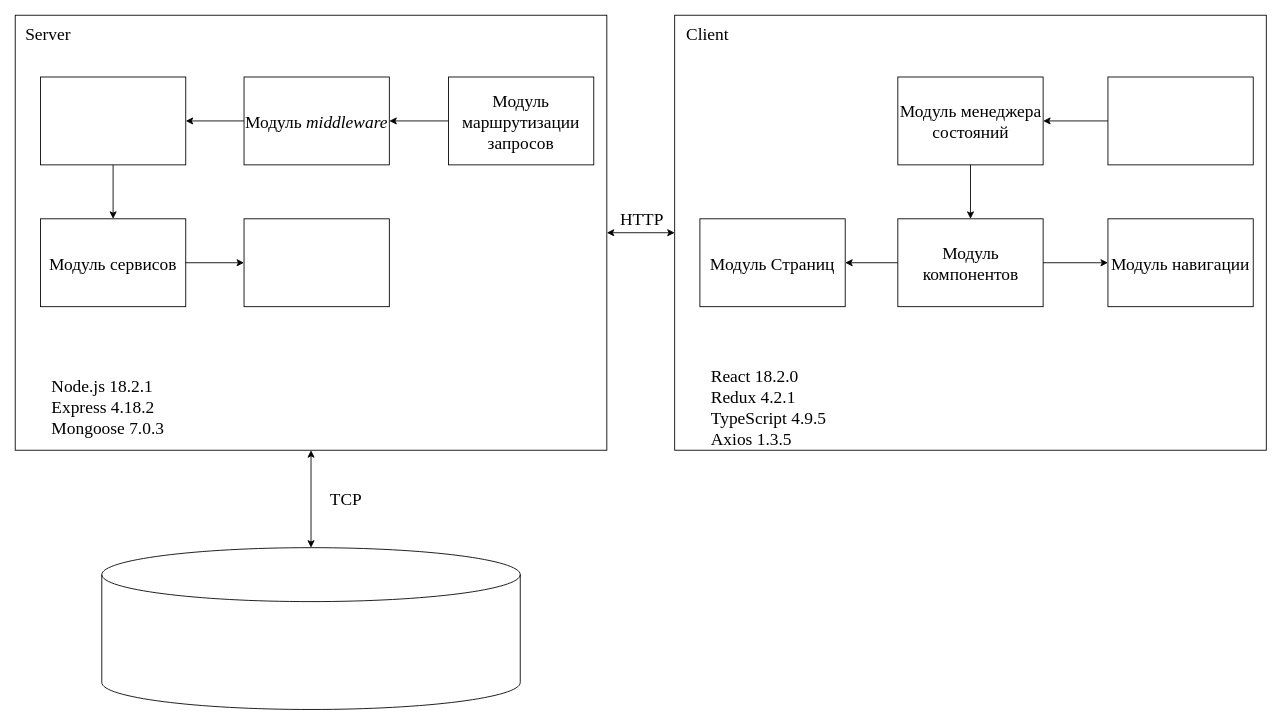
This 1282x725 diagram has some shape labels left out. The box of each missing label's shape, as (x1, y1, x2, y2) in pixels:
MongoDB 6.0: (101, 547, 520, 709)
Модуль моделей: (243, 218, 389, 307)
Модуль обработки запросов: (40, 76, 186, 165)
Модуль отправки запросов: (1107, 76, 1253, 165)
